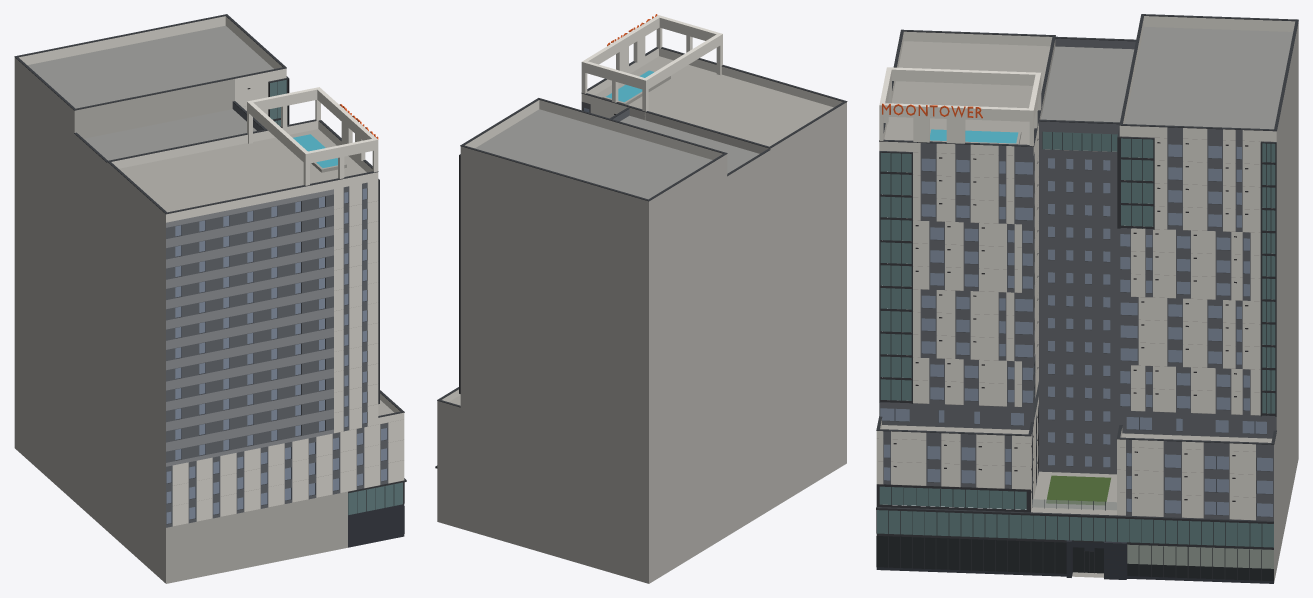
The model's file is moontower-look.glb.
3 renders of one model, left to right at view 1: azimuth 30°, elevation 25°; view 2: azimuth 150°, elevation 25°; view 3: azimuth 270°, elevation 25°, orthographic. The views are drawn at different scales.
Parts seen in each view (by area): view 1: n_wall_plain_unseen, n_wall_white_panel, n_wall_dark_panel, n_wall_grey_band, n_roof, n_glass_window, n_terrace_paver, n_frame_dark, n_wall_charcoal_panel, n_glass_curtainwall; view 2: n_wall_plain_unseen, n_roof, n_wall_white_panel, n_terrace_paver, n_frame_dark; view 3: n_wall_white_panel, n_wall_dark_panel, n_glass_curtainwall, n_glass_window, n_roof, n_frame_dark, n_terrace_paver, n_wall_plain_unseen, n_glass_storefront, n_glass_shade, n_wall_charcoal_panel, n_turf (+5 smaller).
Boxes of the visible parts, x1,y1,x2,y2 form: n_wall_plain_unseen: (14, 57, 347, 583); n_wall_white_panel: (19, 16, 404, 526); n_wall_dark_panel: (166, 102, 388, 527); n_wall_grey_band: (166, 189, 333, 466); n_roof: (27, 25, 273, 160); n_glass_window: (166, 188, 387, 523); n_terrace_paver: (119, 129, 394, 415); n_frame_dark: (14, 14, 406, 533); n_wall_charcoal_panel: (348, 504, 404, 547); n_glass_curtainwall: (270, 80, 402, 514); n_wall_plain_unseen: (437, 102, 846, 583); n_roof: (475, 109, 759, 199); n_wall_white_panel: (442, 15, 842, 401); n_terrace_paver: (449, 56, 833, 405); n_frame_dark: (435, 47, 847, 468); n_wall_white_panel: (876, 16, 1295, 520); n_wall_dark_panel: (879, 38, 1276, 520); n_glass_curtainwall: (877, 131, 1275, 547); n_glass_window: (880, 144, 1272, 516); n_roof: (1041, 26, 1293, 129); n_frame_dark: (876, 14, 1298, 580); n_terrace_paver: (881, 41, 1271, 577); n_wall_plain_unseen: (883, 22, 1298, 582); n_glass_storefront: (877, 536, 1273, 581); n_glass_shade: (1127, 544, 1273, 568); n_wall_charcoal_panel: (876, 540, 1273, 583); n_turf: (1046, 475, 1110, 505).
Size of the model in its own units: 37.82 by 57.15 by 48.34.
